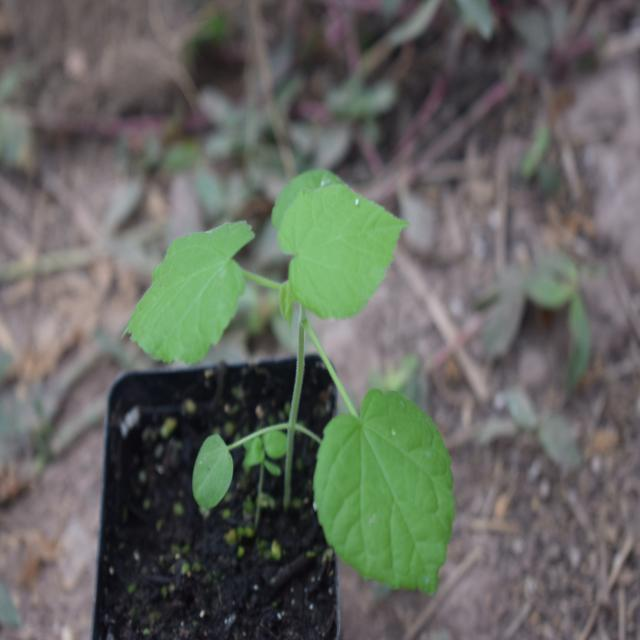abutilon theophrasti: (118, 160, 472, 605)
